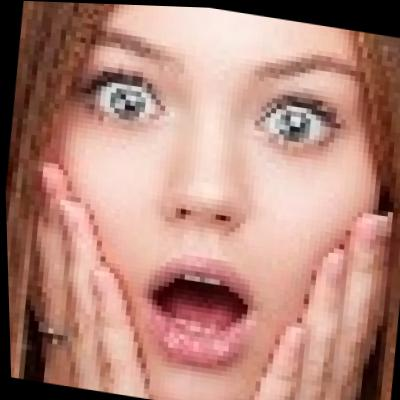surprise: (25, 1, 400, 400)
